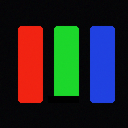3 line_h: (48, 96, 78, 102)
